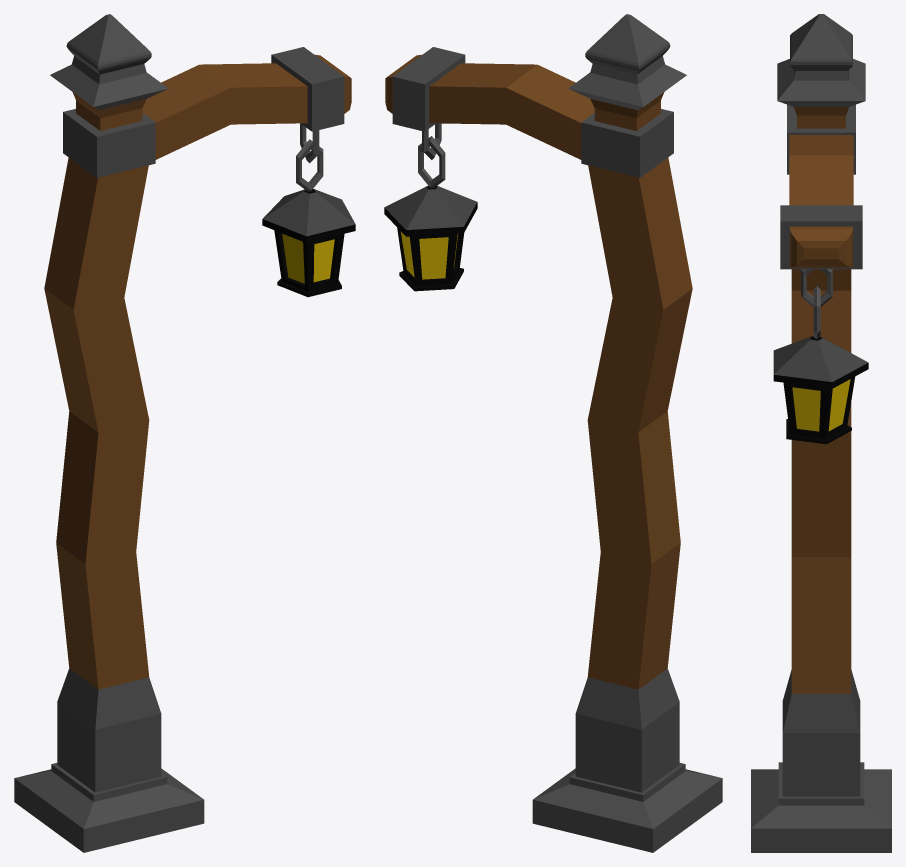
File: street lamp.fbx
The picture shows the model from 3 angles, left to right: view 1: azimuth 30°, elevation 25°; view 2: azimuth 150°, elevation 25°; view 3: azimuth 270°, elevation 25°; orthographic projection.
Visible parts, largest first — view 1: Cube, Cylinder, Torus; view 2: Cube, Cylinder, Torus; view 3: Cube, Cylinder, Torus.
Part boxes in pixels (bbox=[...]): Cube: bbox=[14, 14, 351, 852]; Cylinder: bbox=[262, 189, 355, 297]; Torus: bbox=[296, 123, 323, 191]; Cube: bbox=[385, 14, 722, 852]; Cylinder: bbox=[384, 185, 477, 291]; Torus: bbox=[418, 123, 445, 188]; Cube: bbox=[751, 14, 891, 852]; Cylinder: bbox=[773, 336, 868, 444]; Torus: bbox=[801, 269, 832, 338].
Bounding box in the file's own units: 495 × 1265 × 200.
